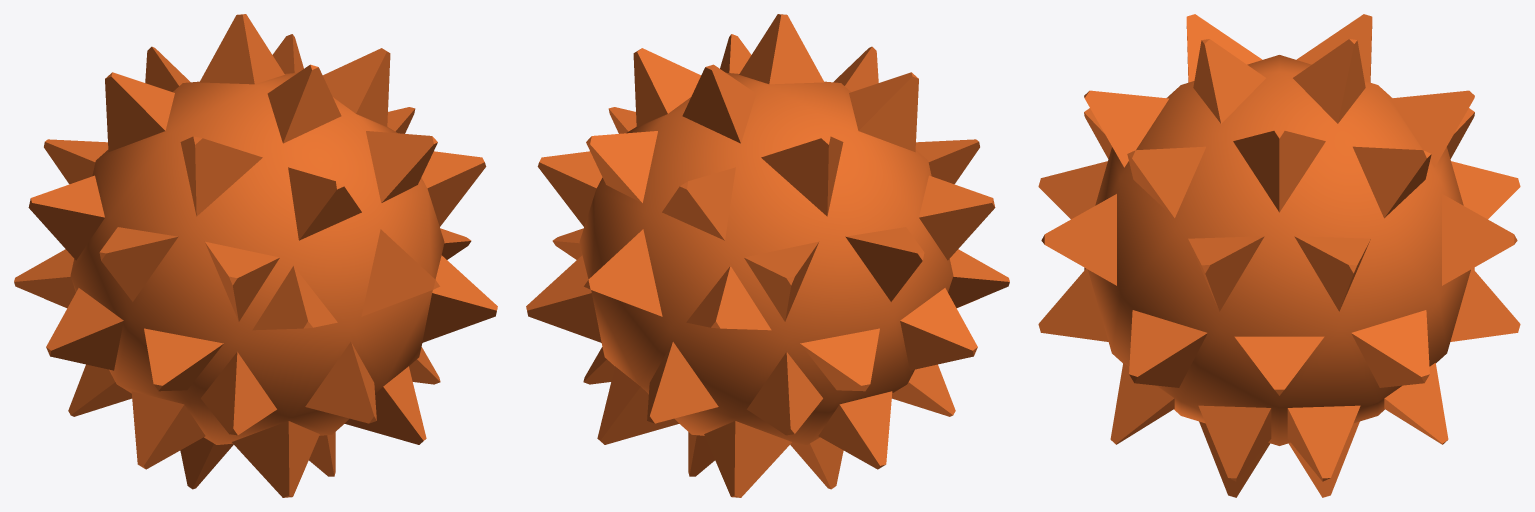
File: Projectile_Placeholder.fbx
3 renders of one model, left to right at view 1: azimuth 30°, elevation 25°; view 2: azimuth 150°, elevation 25°; view 3: azimuth 270°, elevation 25°, orthographic. The views are drawn at different scales.
Visible parts, largest first — view 1: Icosphere.002; view 2: Icosphere.002; view 3: Icosphere.002.
Boxes of the visible parts, x1,y1,x2,y2 form: Icosphere.002: (14,14,497,497); Icosphere.002: (526,14,1009,497); Icosphere.002: (1038,14,1520,497).
Size of the model in its own units: 2.54 by 2.45 by 2.48.
